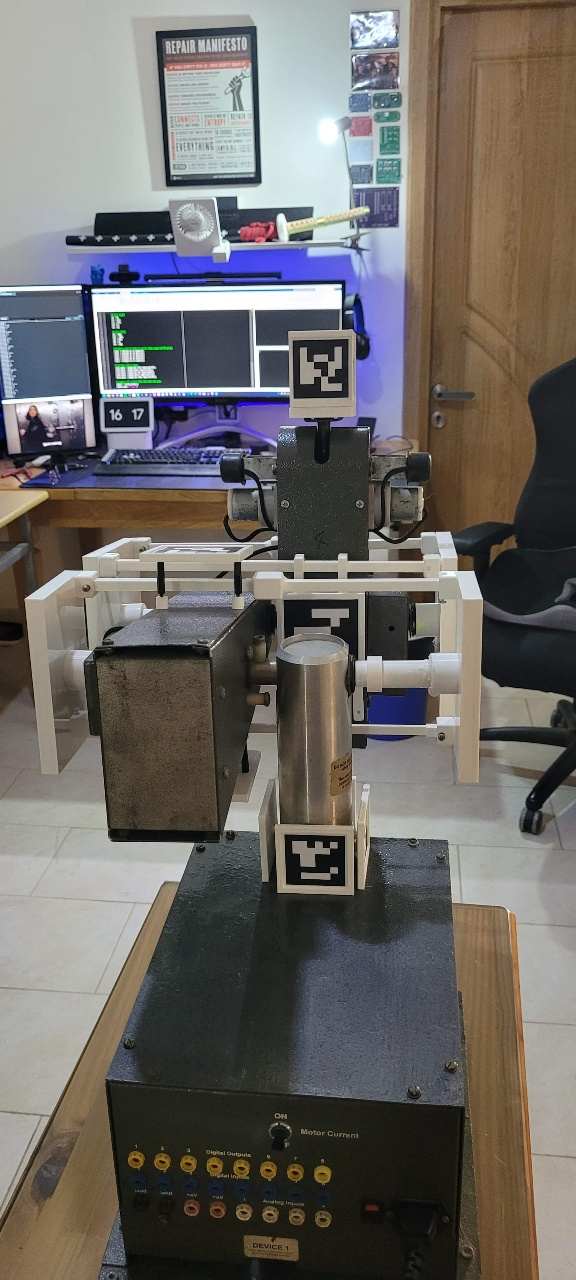Robot: (28, 105, 465, 1280)
